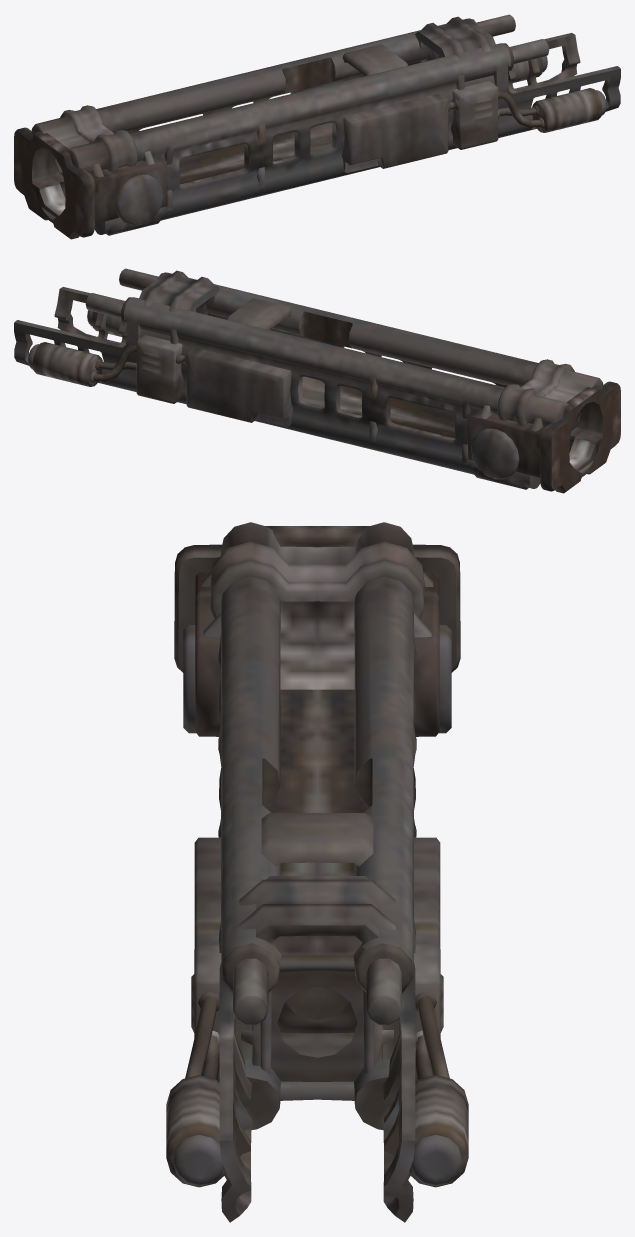
Rendered from HeavyWeapons_Vladof_Barrel_Strack_Acc_2.obj.
The picture shows the model from 3 angles, top to bottom: view 1: azimuth 30°, elevation 25°; view 2: azimuth 150°, elevation 25°; view 3: azimuth 270°, elevation 25°; orthographic projection. The views are drawn at different scales.
Visible parts, largest first — view 1: Barrel_Strak_acc_2_chassis_SK_HW_VLA.064, Barrel_Strak_acc_2_chassis_control_2_SK_HW_VLA.069, Barrel_Strak_acc_2_chassis_knob_2_SK_HW_VLA.068, Barrel_Strak_acc_2_chassis_pin_2_SK_HW_VLA.070, Barrel_Strak_acc_2_chassis_pin_1_SK_HW_VLA.067, Barrel_Strak_acc_2_chassis_control_2_feed_1_SK_HW_VLA.078, Barrel_Strak_acc_2_chassis_control_1_SK_HW_VLA.066, Barrel_Strak_acc_2_chassis_panel_2_SK_HW_VLA.072; view 2: Barrel_Strak_acc_2_chassis_SK_HW_VLA.064, Barrel_Strak_acc_2_chassis_control_1_SK_HW_VLA.066, Barrel_Strak_acc_2_chassis_knob_1_SK_HW_VLA.065, Barrel_Strak_acc_2_chassis_pin_1_SK_HW_VLA.067, Barrel_Strak_acc_2_chassis_pin_2_SK_HW_VLA.070, Barrel_Strak_acc_2_chassis_control_1_feed_1_SK_HW_VLA.077, Barrel_Strak_acc_2_chassis_control_2_SK_HW_VLA.069, Barrel_Strak_acc_2_chassis_panel_1_SK_HW_VLA.071; view 3: Barrel_Strak_acc_2_chassis_SK_HW_VLA.064, Barrel_Strak_acc_2_chassis_control_1_SK_HW_VLA.066, Barrel_Strak_acc_2_chassis_control_2_SK_HW_VLA.069, Barrel_Strak_acc_2_chassis_pin_1_SK_HW_VLA.067, Barrel_Strak_acc_2_chassis_pin_2_SK_HW_VLA.070, Barrel_Strak_acc_2_chassis_knob_1_SK_HW_VLA.065, Barrel_Strak_acc_2_chassis_knob_2_SK_HW_VLA.068, Barrel_Strak_acc_2_chassis_control_1_feed_1_SK_HW_VLA.077, Barrel_Strak_acc_2_chassis_control_2_feed_1_SK_HW_VLA.078.
Boxes of the visible parts, box(x1,y1,x2,y2) form: Barrel_Strak_acc_2_chassis_SK_HW_VLA.064: box(14, 16, 620, 239); Barrel_Strak_acc_2_chassis_control_2_SK_HW_VLA.069: box(532, 88, 606, 132); Barrel_Strak_acc_2_chassis_knob_2_SK_HW_VLA.068: box(115, 174, 163, 225); Barrel_Strak_acc_2_chassis_pin_2_SK_HW_VLA.070: box(510, 39, 549, 63); Barrel_Strak_acc_2_chassis_pin_1_SK_HW_VLA.067: box(476, 14, 515, 36); Barrel_Strak_acc_2_chassis_control_2_feed_1_SK_HW_VLA.078: box(498, 91, 541, 127); Barrel_Strak_acc_2_chassis_control_1_SK_HW_VLA.066: box(512, 56, 547, 82); Barrel_Strak_acc_2_chassis_panel_2_SK_HW_VLA.072: box(106, 213, 160, 235); Barrel_Strak_acc_2_chassis_SK_HW_VLA.064: box(14, 270, 620, 493); Barrel_Strak_acc_2_chassis_control_1_SK_HW_VLA.066: box(28, 342, 102, 386); Barrel_Strak_acc_2_chassis_knob_1_SK_HW_VLA.065: box(471, 428, 519, 479); Barrel_Strak_acc_2_chassis_pin_1_SK_HW_VLA.067: box(85, 293, 124, 317); Barrel_Strak_acc_2_chassis_pin_2_SK_HW_VLA.070: box(119, 268, 158, 290); Barrel_Strak_acc_2_chassis_control_1_feed_1_SK_HW_VLA.077: box(93, 345, 136, 381); Barrel_Strak_acc_2_chassis_control_2_SK_HW_VLA.069: box(87, 310, 122, 336); Barrel_Strak_acc_2_chassis_panel_1_SK_HW_VLA.071: box(474, 467, 528, 489); Barrel_Strak_acc_2_chassis_SK_HW_VLA.064: box(174, 522, 460, 1222); Barrel_Strak_acc_2_chassis_control_1_SK_HW_VLA.066: box(408, 1075, 468, 1187); Barrel_Strak_acc_2_chassis_control_2_SK_HW_VLA.069: box(166, 1075, 226, 1187); Barrel_Strak_acc_2_chassis_pin_1_SK_HW_VLA.067: box(366, 958, 401, 1024); Barrel_Strak_acc_2_chassis_pin_2_SK_HW_VLA.070: box(233, 958, 268, 1024); Barrel_Strak_acc_2_chassis_knob_1_SK_HW_VLA.065: box(439, 625, 451, 733); Barrel_Strak_acc_2_chassis_knob_2_SK_HW_VLA.068: box(183, 625, 195, 733); Barrel_Strak_acc_2_chassis_control_1_feed_1_SK_HW_VLA.077: box(417, 997, 449, 1078); Barrel_Strak_acc_2_chassis_control_2_feed_1_SK_HW_VLA.078: box(185, 997, 217, 1078).
Size of the model in its own units: 71.15 by 12.41 by 17.
